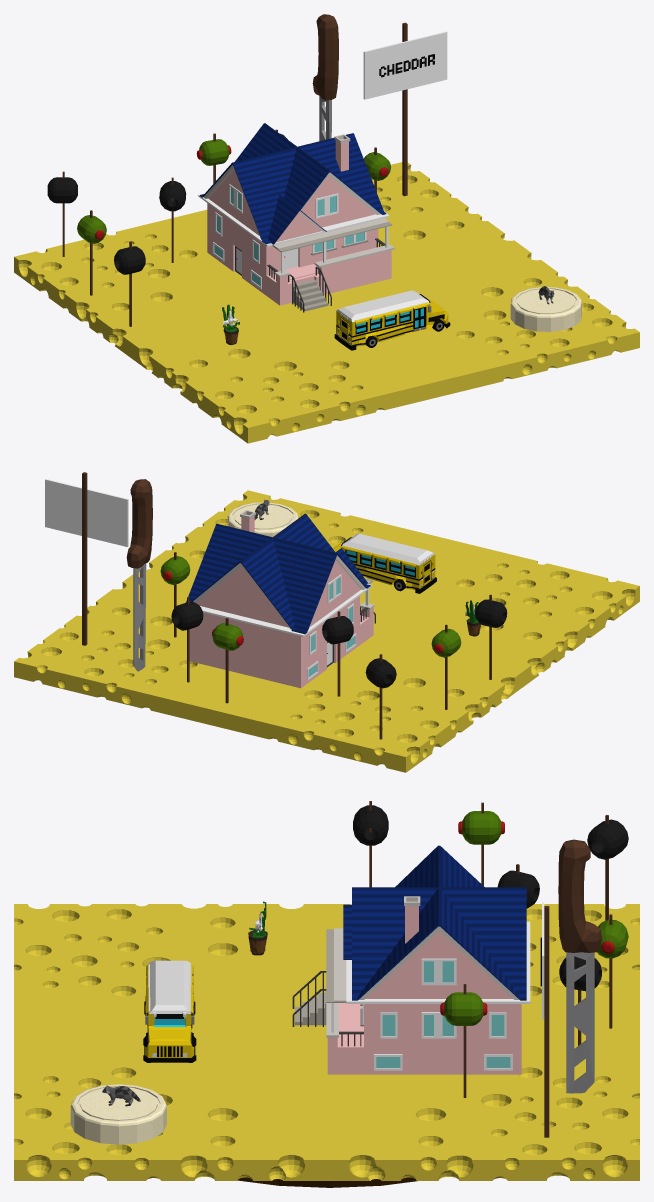
3 renders of one model, top to bottom at view 1: azimuth 30°, elevation 25°; view 2: azimuth 150°, elevation 25°; view 3: azimuth 270°, elevation 25°, orthographic. The views are drawn at different scales.
Parts seen in each view (by area): view 1: Cube.022, Cube.313, Cube.023, VEHICLES_SCHOOL_BUS, Cylinder.016, Cube.024, Sphere.017, Sphere.016, Sphere.020, Sphere.018, Sphere.022, Sphere.019; view 2: Cube.022, Cube.313, Cube.023, VEHICLES_SCHOOL_BUS, Cube.024, Cylinder.016, Sphere.020, Sphere.016, Sphere.022, Sphere.017, Sphere.021, Sphere.018 (+1 smaller); view 3: Cube.022, Cube.313, Cube.024, VEHICLES_SCHOOL_BUS, Cylinder.016, Cube.023, Sphere.019, Sphere.016, Sphere.018, Sphere.017, Sphere.022, Cylinder (+3 smaller).
Boxes of the visible parts, box(x1,y1,x2,y2) form: Cube.022: box(14, 162, 639, 443); Cube.313: box(198, 123, 394, 312); Cube.023: box(363, 22, 447, 196); VEHICLES_SCHOOL_BUS: box(334, 290, 450, 350); Cylinder.016: box(510, 287, 581, 331); Cube.024: box(312, 14, 338, 141); Sphere.017: box(114, 241, 145, 326); Sphere.016: box(47, 171, 77, 256); Sphere.020: box(159, 177, 186, 262); Sphere.018: box(77, 210, 106, 295); Sphere.022: box(196, 133, 231, 183); Sphere.019: box(364, 147, 390, 192); Cube.022: box(14, 490, 639, 772); Cube.313: box(185, 510, 375, 688); Cube.023: box(45, 472, 128, 645); VEHICLES_SCHOOL_BUS: box(333, 533, 436, 593); Cube.024: box(126, 479, 152, 671); Cylinder.016: box(227, 502, 298, 537); Sphere.020: box(322, 611, 353, 696); Sphere.016: box(365, 654, 396, 739); Sphere.022: box(212, 618, 243, 703); Sphere.017: box(475, 594, 507, 679); Sphere.021: box(171, 597, 203, 682); Sphere.018: box(431, 624, 461, 709); Cube.022: box(14, 904, 639, 1180); Cube.313: box(292, 845, 530, 1074); Cube.024: box(558, 839, 601, 1093); VEHICLES_SCHOOL_BUS: box(143, 960, 196, 1062); Cylinder.016: box(70, 1084, 166, 1144); Cube.023: box(540, 902, 549, 1137); Sphere.019: box(440, 984, 487, 1097); Sphere.016: box(587, 815, 628, 920); Sphere.018: box(458, 802, 504, 885); Sphere.017: box(353, 801, 388, 887); Sphere.022: box(597, 914, 628, 1028); Cylinder: box(237, 1177, 417, 1187).
Size of the model in its own units: 3917 by 2073 by 4000.
Materials: 42 (3 with a texture image).
